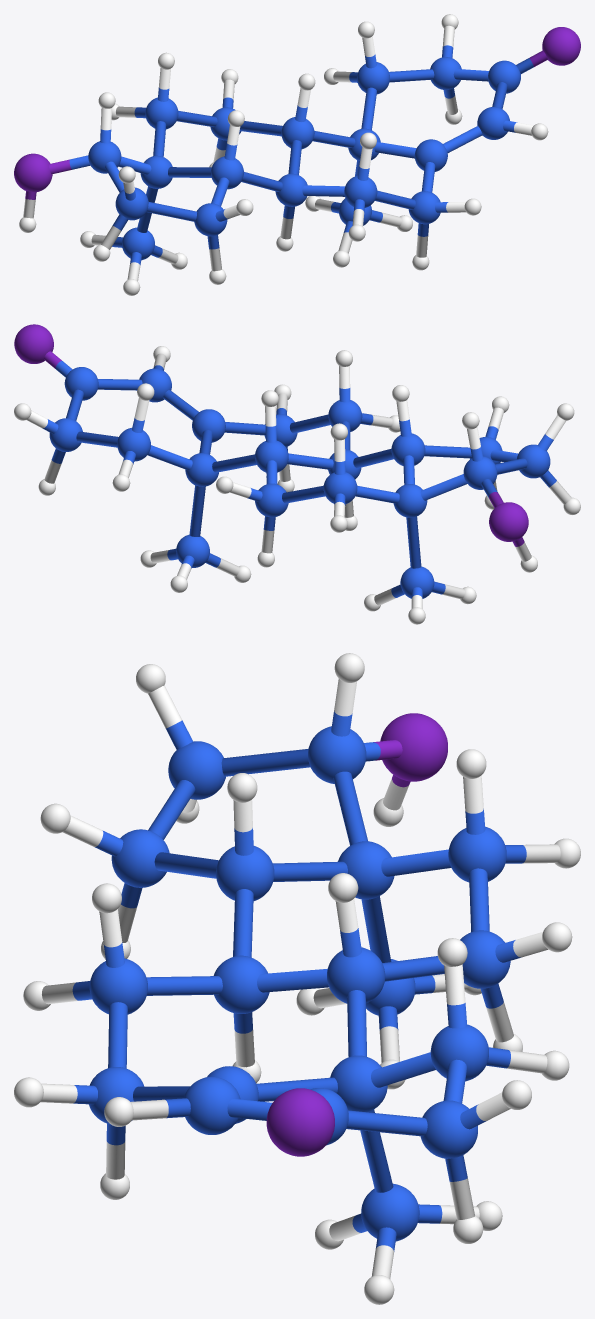
The picture shows the model from 3 angles, top to bottom: view 1: azimuth 30°, elevation 25°; view 2: azimuth 150°, elevation 25°; view 3: azimuth 270°, elevation 25°; orthographic projection. The views are drawn at different scales.
Visible parts, largest first — view 1: merged-model; view 2: merged-model; view 3: merged-model.
Boxes of the visible parts, <box> form: merged-model: <box>14,14,580,295</box>; merged-model: <box>14,324,580,624</box>; merged-model: <box>14,653,580,1304</box>.
Bounding box in the file's own units: 11.56 × 4.67 × 6.05.
